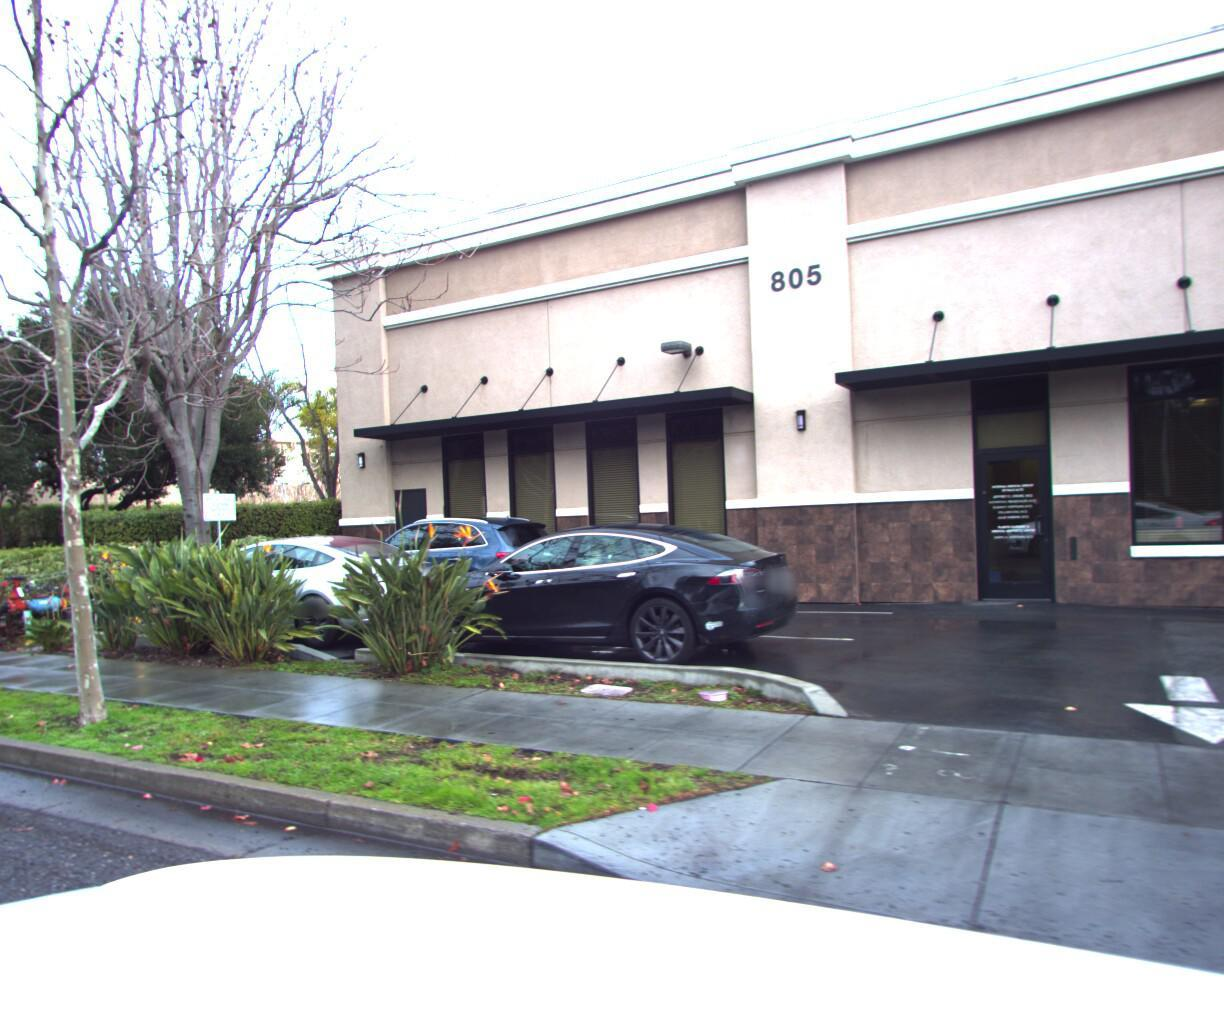car: (358, 513, 827, 675), (130, 522, 471, 646), (298, 507, 597, 622)
